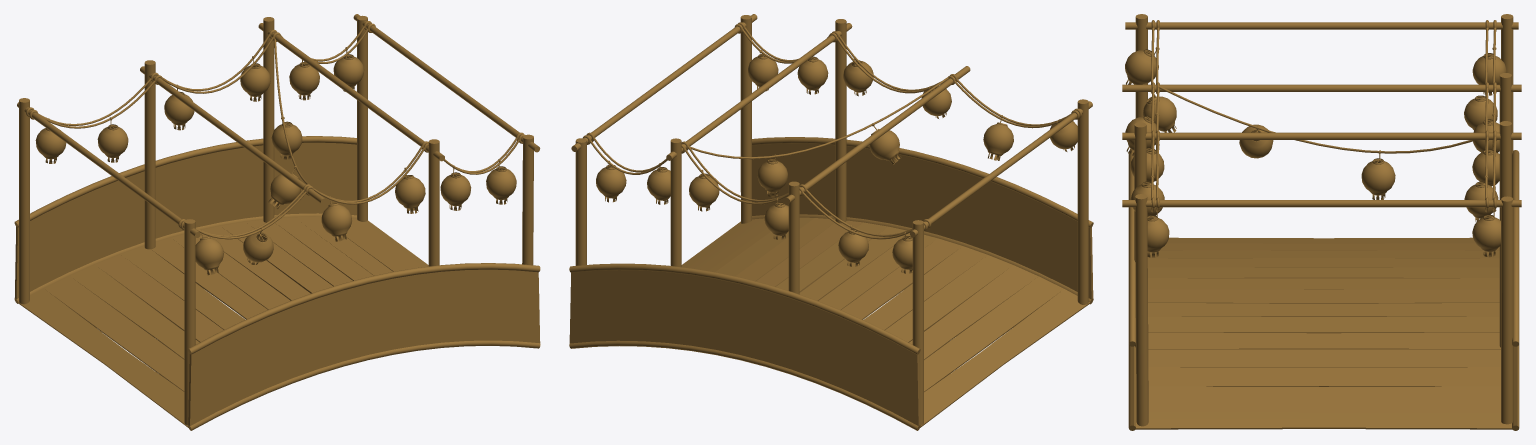
The model's file is Puente_medio1.FBX.
The picture shows the model from 3 angles, left to right: view 1: azimuth 30°, elevation 25°; view 2: azimuth 150°, elevation 25°; view 3: azimuth 270°, elevation 25°; orthographic projection. The views are drawn at different scales.
Parts seen in each view (by area): view 1: Line002, Line005, Line008, Line011, Line014, Line003, Line012, Object007, Line009, Line010, Line013, Line004 (+18 smaller); view 2: Line002, Line003, Line009, Line012, Line005, Line011, Line014, Object007, Line010, Line013, Line004, Line008 (+19 smaller); view 3: Line002, Object007, Line012, Line013, Line010, Line014, Line004, Line011, Sphere025, Sphere024, Sphere001, Line009 (+19 smaller).
Boxes of the visible parts, left/top/right/bottom form: Line002: left=14, top=136, right=540, bottom=430; Line005: left=19, top=98, right=29, bottom=304; Line008: left=144, top=60, right=155, bottom=249; Line011: left=263, top=17, right=274, bottom=222; Line014: left=357, top=15, right=367, bottom=221; Line003: left=184, top=219, right=195, bottom=425; Line012: left=522, top=134, right=533, bottom=265; Object007: left=140, top=66, right=326, bottom=204; Line009: left=428, top=139, right=439, bottom=266; Line010: left=258, top=23, right=444, bottom=161; Line013: left=353, top=14, right=540, bottom=152; Line004: left=17, top=102, right=200, bottom=237; Line002: left=569, top=137, right=1093, bottom=430; Line003: left=1077, top=99, right=1088, bottom=304; Line009: left=835, top=19, right=846, bottom=223; Line012: left=740, top=15, right=751, bottom=223; Line005: left=912, top=220, right=923, bottom=425; Line011: left=670, top=138, right=681, bottom=266; Line014: left=575, top=138, right=586, bottom=265; Object007: left=784, top=66, right=970, bottom=203; Line010: left=666, top=23, right=852, bottom=160; Line013: left=571, top=14, right=757, bottom=151; Line004: left=910, top=101, right=1092, bottom=237; Line008: left=788, top=181, right=799, bottom=294; Line002: left=1128, top=150, right=1519, bottom=430; Object007: left=1122, top=84, right=1521, bottom=91; Line012: left=1135, top=194, right=1148, bottom=426; Line013: left=1122, top=200, right=1521, bottom=207; Line010: left=1122, top=132, right=1521, bottom=139; Line014: left=1501, top=196, right=1513, bottom=424; Line004: left=1125, top=22, right=1518, bottom=29; Line011: left=1499, top=121, right=1511, bottom=347; Sphere025: left=1361, top=150, right=1395, bottom=199; Sphere024: left=1472, top=209, right=1500, bottom=257; Sphere001: left=1125, top=47, right=1159, bottom=84; Line009: left=1134, top=122, right=1146, bottom=347.
Bounding box in the file's own units: 358 × 224 × 320.
